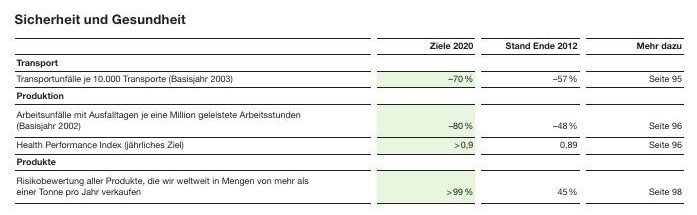table: (0, 0, 697, 215)
